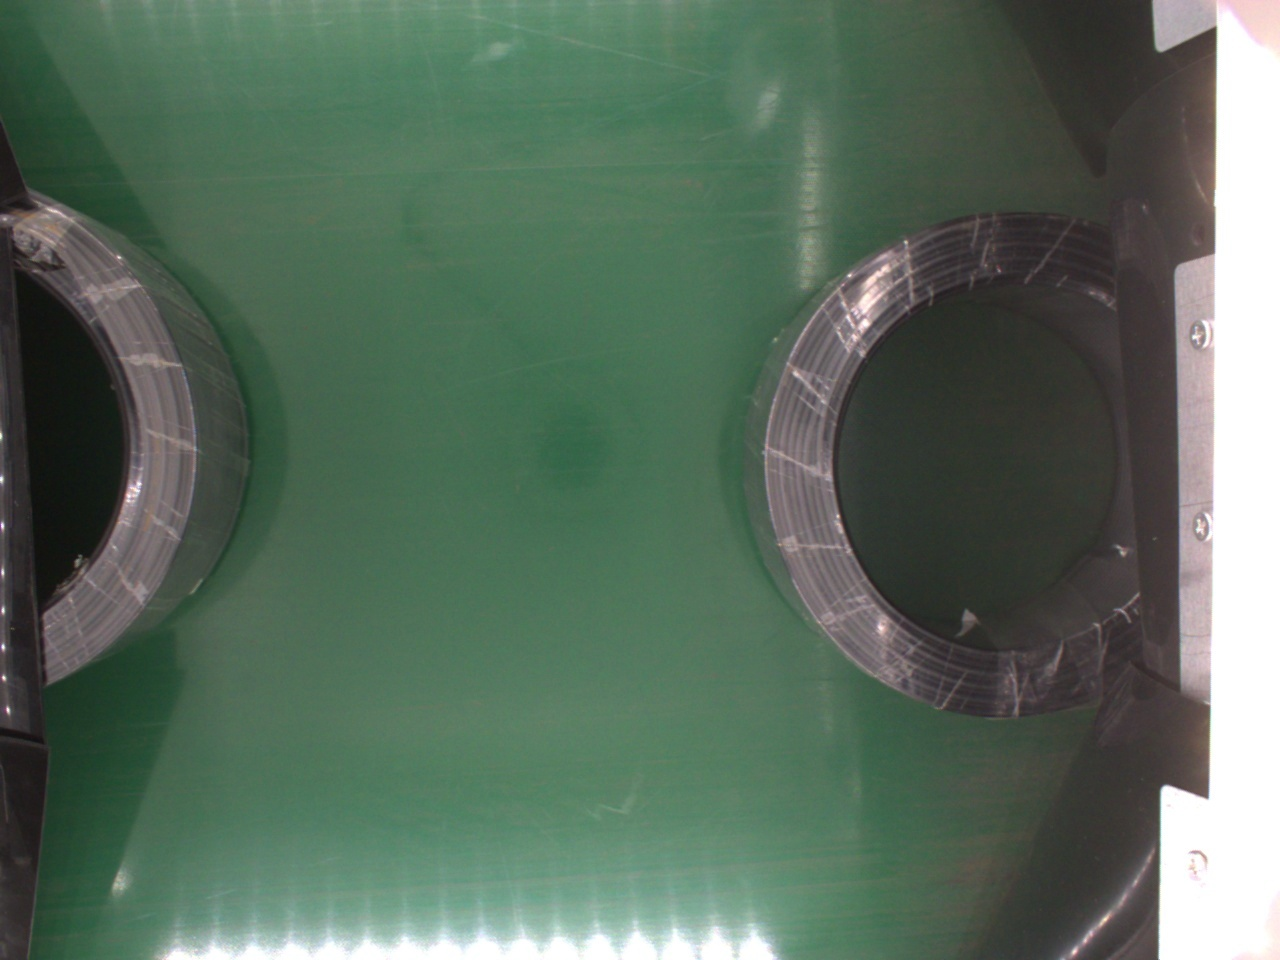black: (738, 216, 1157, 720), (13, 187, 254, 688)
